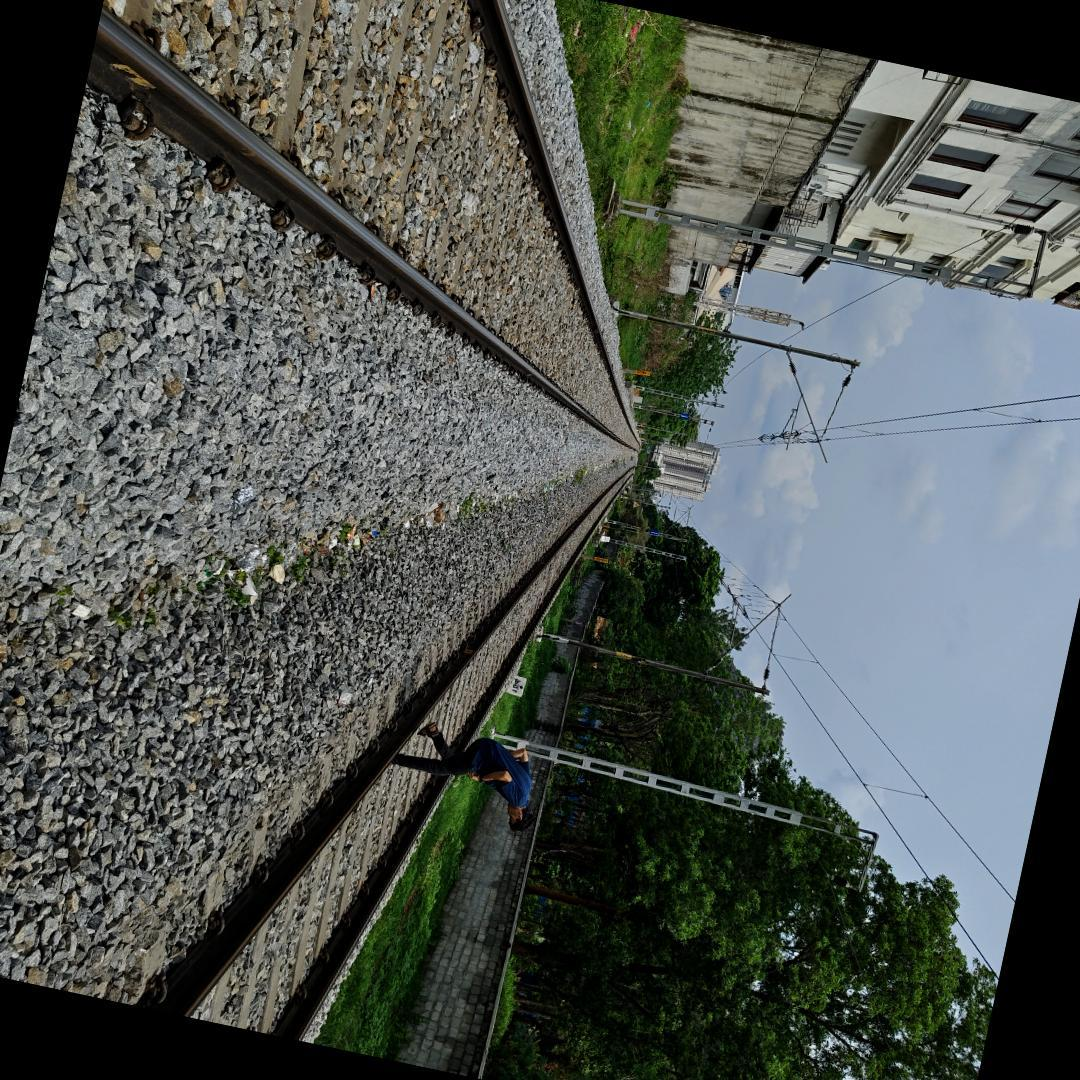standing: (347, 680, 577, 851)
track: (51, 464, 625, 1044), (60, 0, 642, 462)
